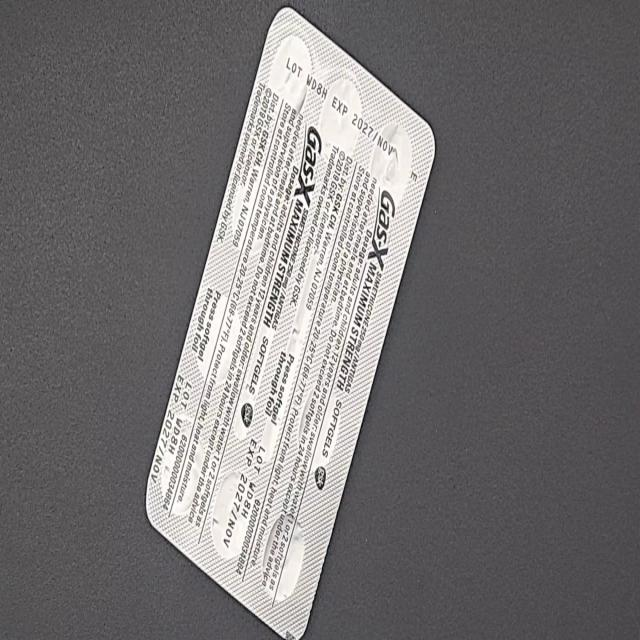no defect: (10, 19, 34, 65)
